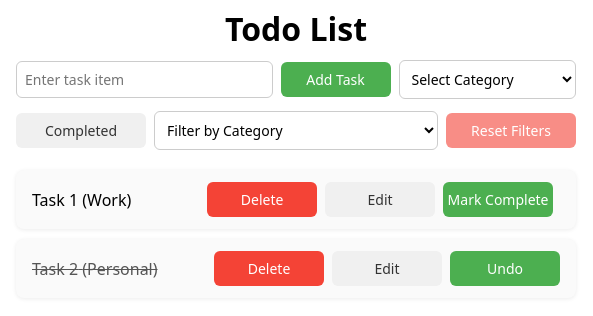
Test case: TodoList Component › toggles task completion
The width and height of the screenshot is (593, 316).
Click the button "Mark Complete": (498, 200) [443,182,553,217]
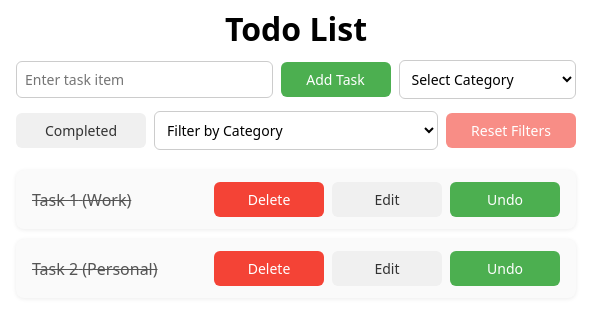
Result: the button "Undo" in the row of "Task 1" is shown at [450,182,560,217]
